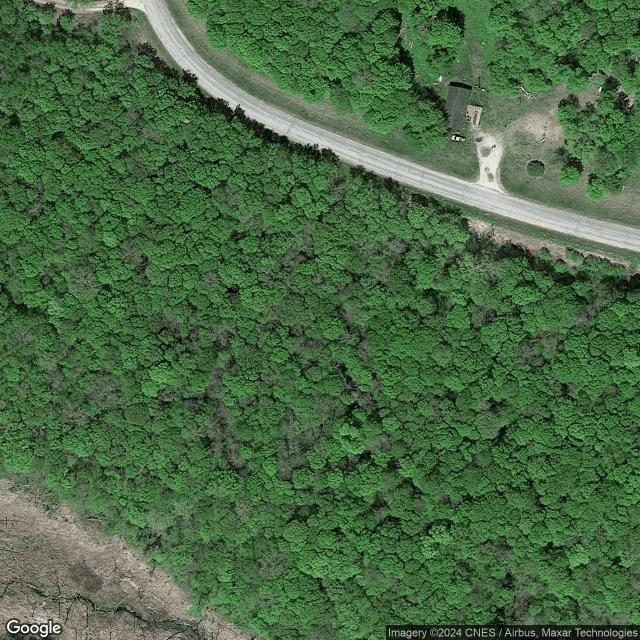Propane: (597, 85, 604, 93)
